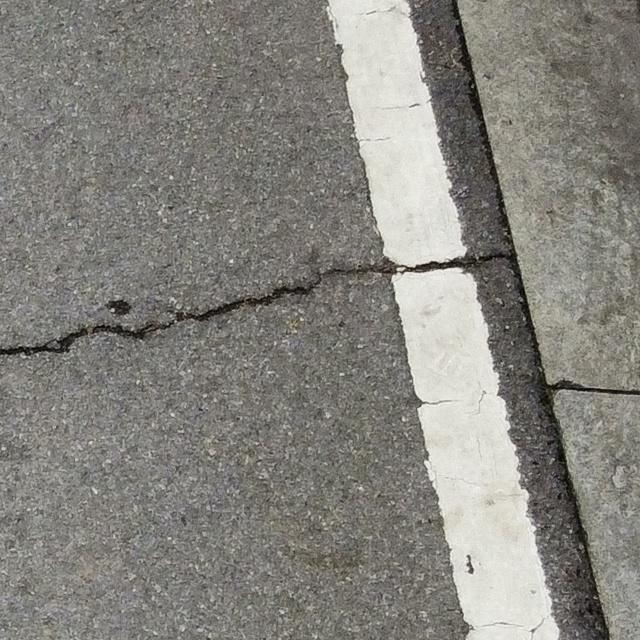LongitudinalCrack: (450, 1, 608, 638)
TransverseCrack: (1, 250, 512, 357), (548, 376, 640, 395)
